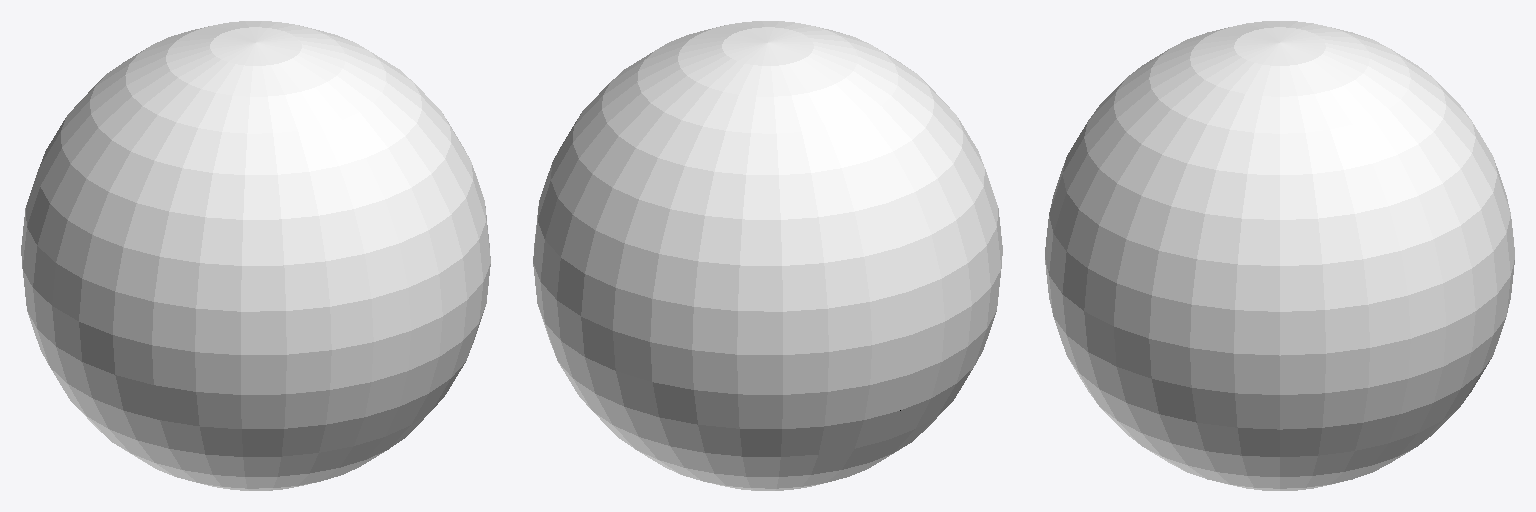
3 views of the same model, side by side, from view 1: azimuth 30°, elevation 25°; view 2: azimuth 150°, elevation 25°; view 3: azimuth 270°, elevation 25° (orthographic).
Parts seen in each view (by area): view 1: 球; view 2: 球; view 3: 球.
Boxes of the visible parts, box(x1,y1,x2,y2) form: 球: box(21, 21, 490, 490); 球: box(533, 21, 1002, 490); 球: box(1045, 21, 1514, 490).
Bounding box in the file's own units: 2 × 2 × 2.
Materials: 1 (1 with a texture image).